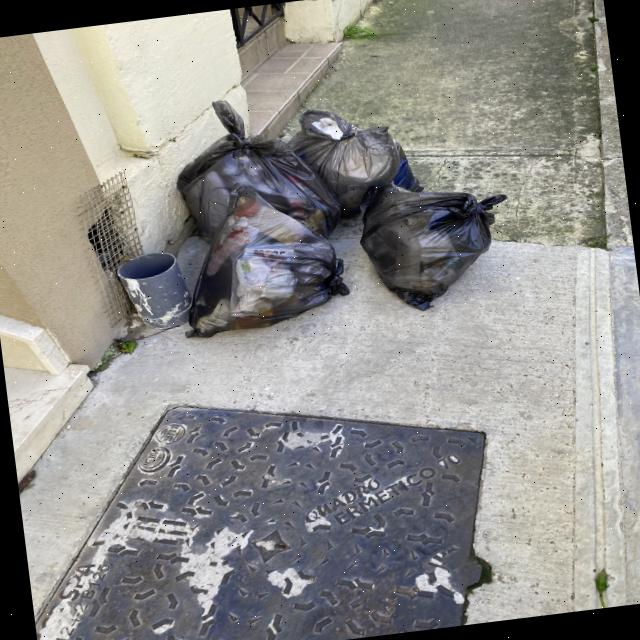Mixed Waste: (163, 177, 355, 342), (163, 88, 344, 257), (348, 162, 521, 323), (292, 92, 429, 222)
